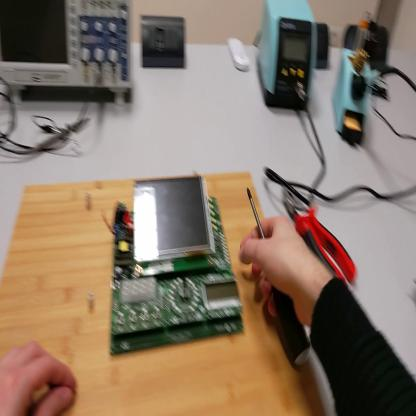hand: (239, 213, 320, 321), (2, 341, 77, 414)
low voltage board: (107, 178, 250, 359)
oscilloscope: (1, 2, 134, 103)
oscilloscope probe tip: (26, 119, 90, 160)
pliers: (285, 184, 357, 293)
screwdriver-: (248, 189, 312, 368)
socket: (346, 25, 391, 73), (315, 20, 331, 74)
welder base: (332, 21, 375, 142)
welder station: (256, 2, 319, 109)
working area: (2, 175, 327, 416)
